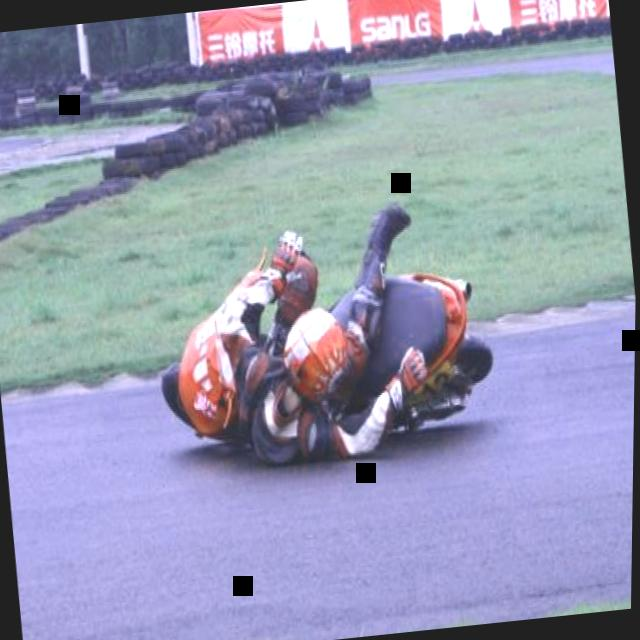Fall-Detected: (143, 171, 481, 492)
